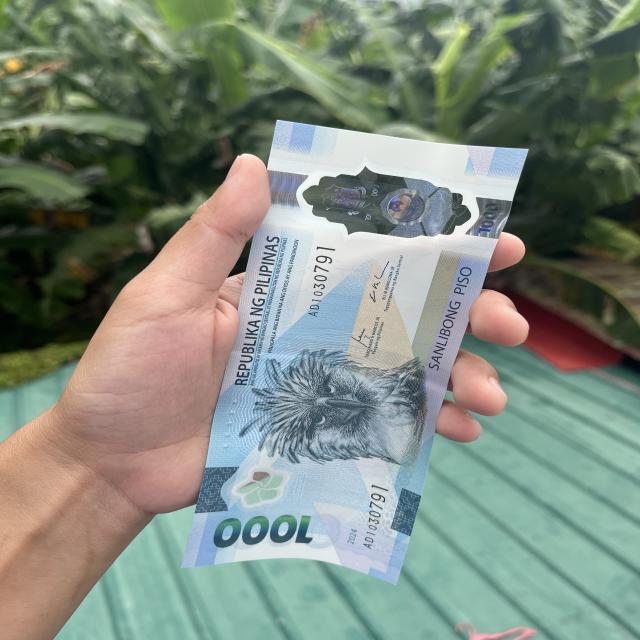clear_window: (253, 145, 520, 266)
eagle: (234, 340, 437, 473)
sampaguita: (228, 463, 310, 509)
security_thread: (234, 333, 452, 390)
serial_number: (297, 243, 340, 322), (355, 482, 395, 554)
value: (211, 511, 319, 551)
